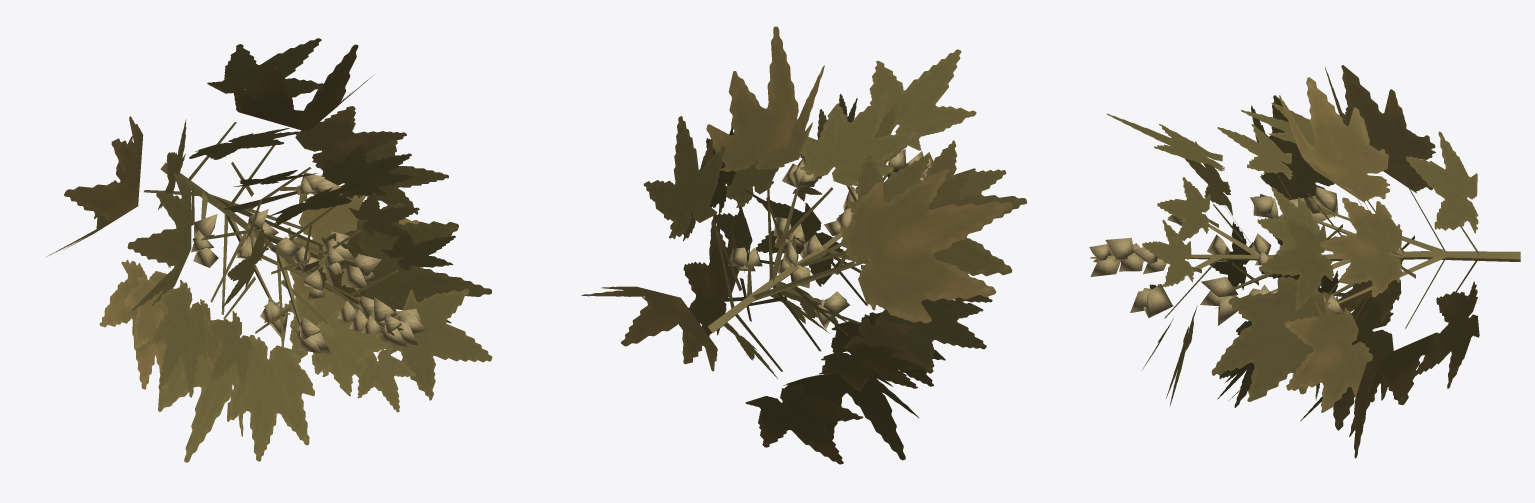
The model's file is p_male_kush_ripe_c2_cards.obj.
The picture shows the model from 3 angles, left to right: view 1: azimuth 30°, elevation 25°; view 2: azimuth 150°, elevation 25°; view 3: azimuth 270°, elevation 25°; orthographic projection. The views are drawn at different scales.
Size of the model in its own units: 1.72 by 1.56 by 1.38.
1 material, 1 textured.
